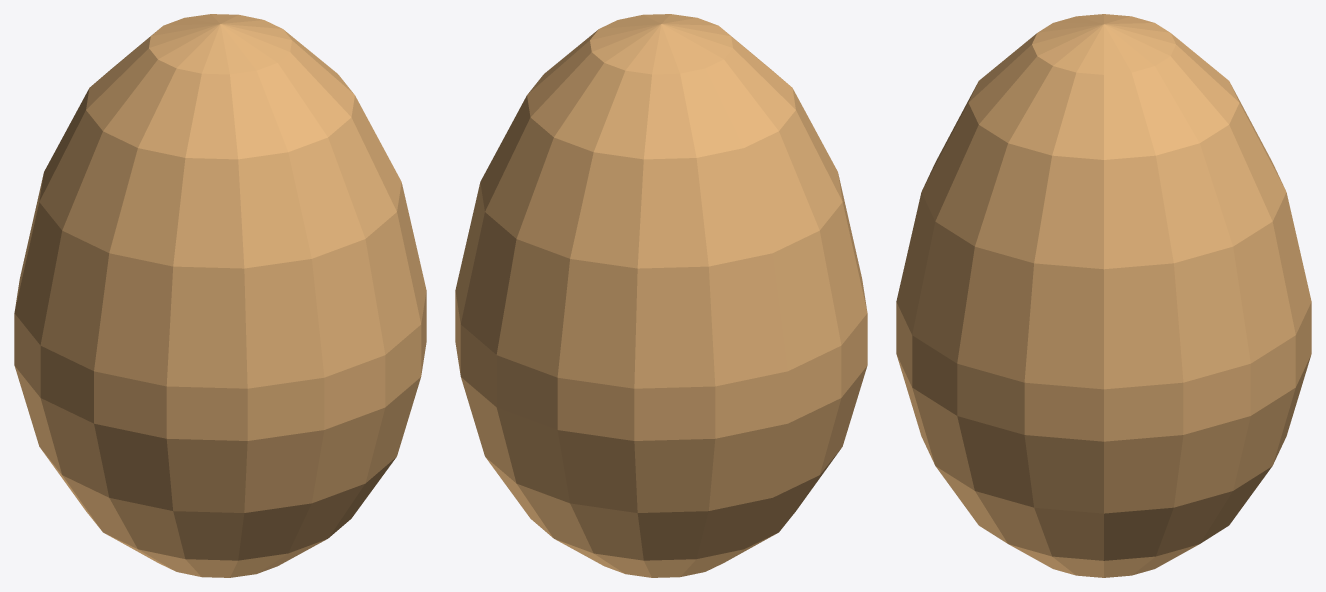
Rendered from Egg.fbx.
The picture shows the model from 3 angles, left to right: view 1: azimuth 30°, elevation 25°; view 2: azimuth 150°, elevation 25°; view 3: azimuth 270°, elevation 25°; orthographic projection.
Parts seen in each view (by area): view 1: 鸡蛋; view 2: 鸡蛋; view 3: 鸡蛋.
Part boxes in pixels (x1,y1,x2,y2): 鸡蛋: (14, 14, 426, 577); 鸡蛋: (455, 14, 867, 577); 鸡蛋: (896, 14, 1311, 577).
Size of the model in its own units: 197 by 282 by 197.
